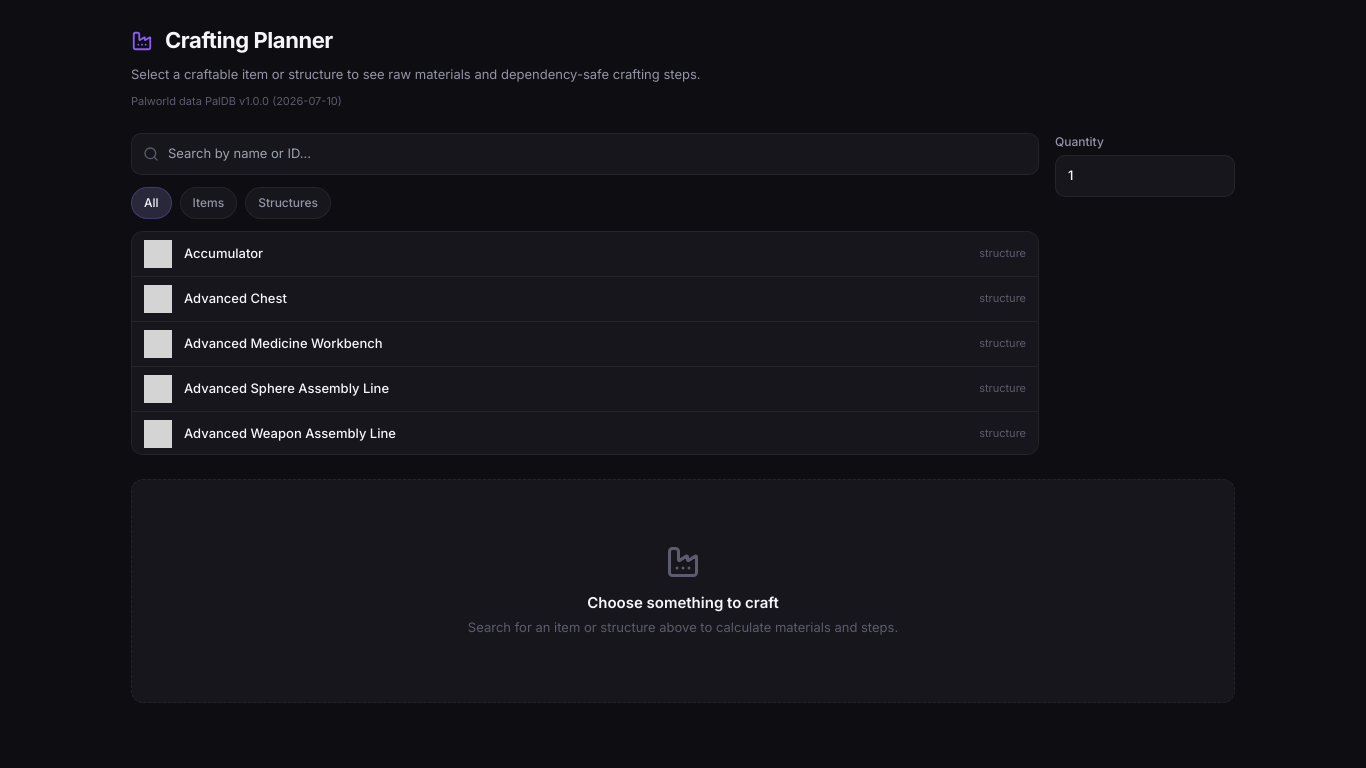
Test: CraftingPlanner page › recalculates when quantity changes
Type "Charcoal" into the search field labelled "Search by name or ID..." at point(585, 154), box [131, 133, 1039, 174]
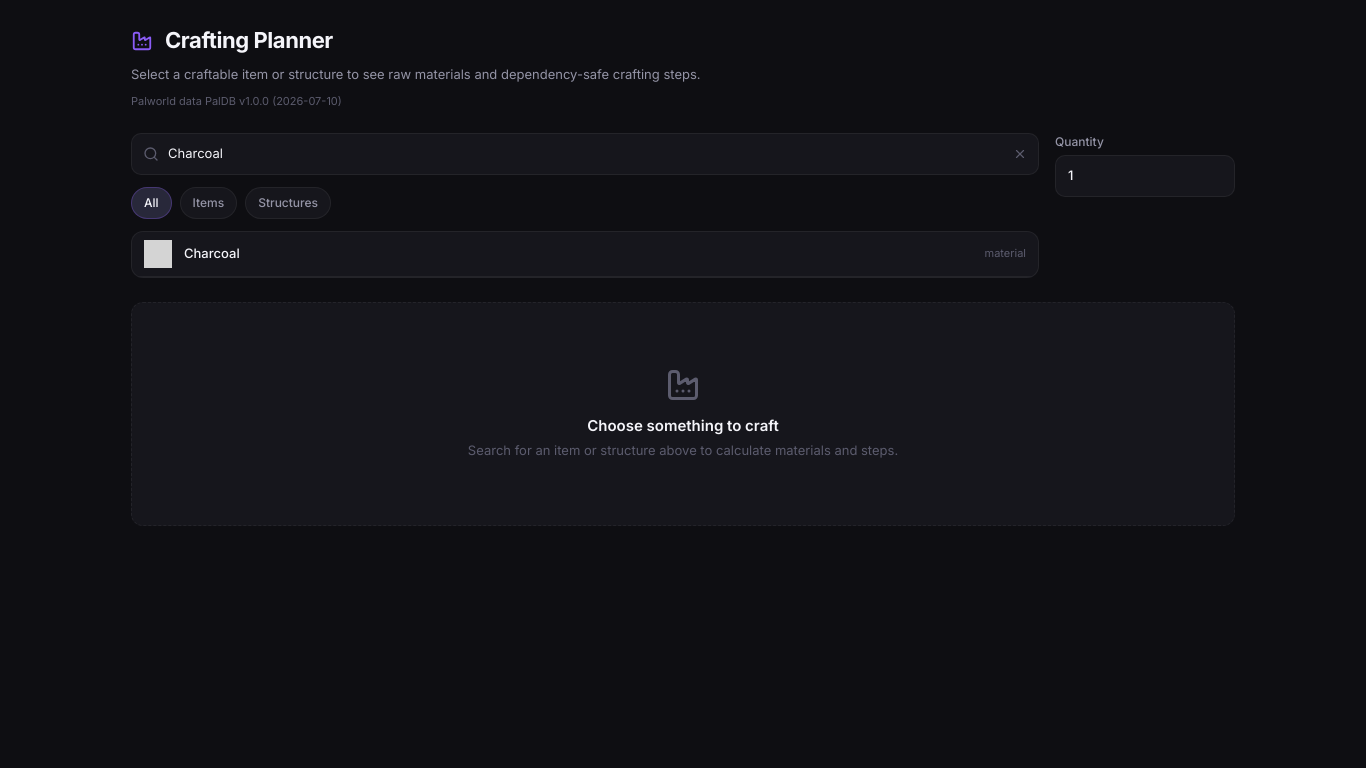
Click the option "Charcoal material" at point(212, 253), box [132, 232, 1038, 276]
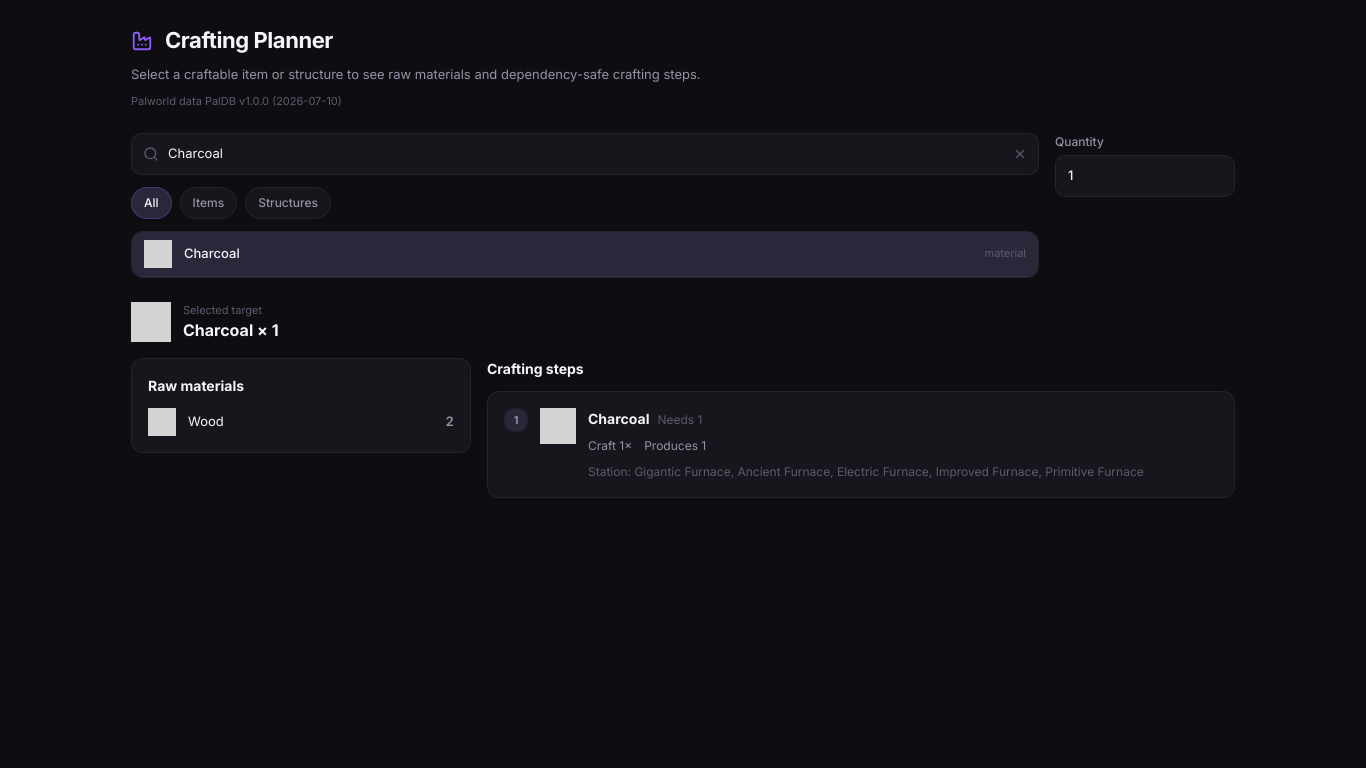
Replace the text in the number field labelled "Quantity" with "2" at point(1145, 176), box [1055, 155, 1235, 196]
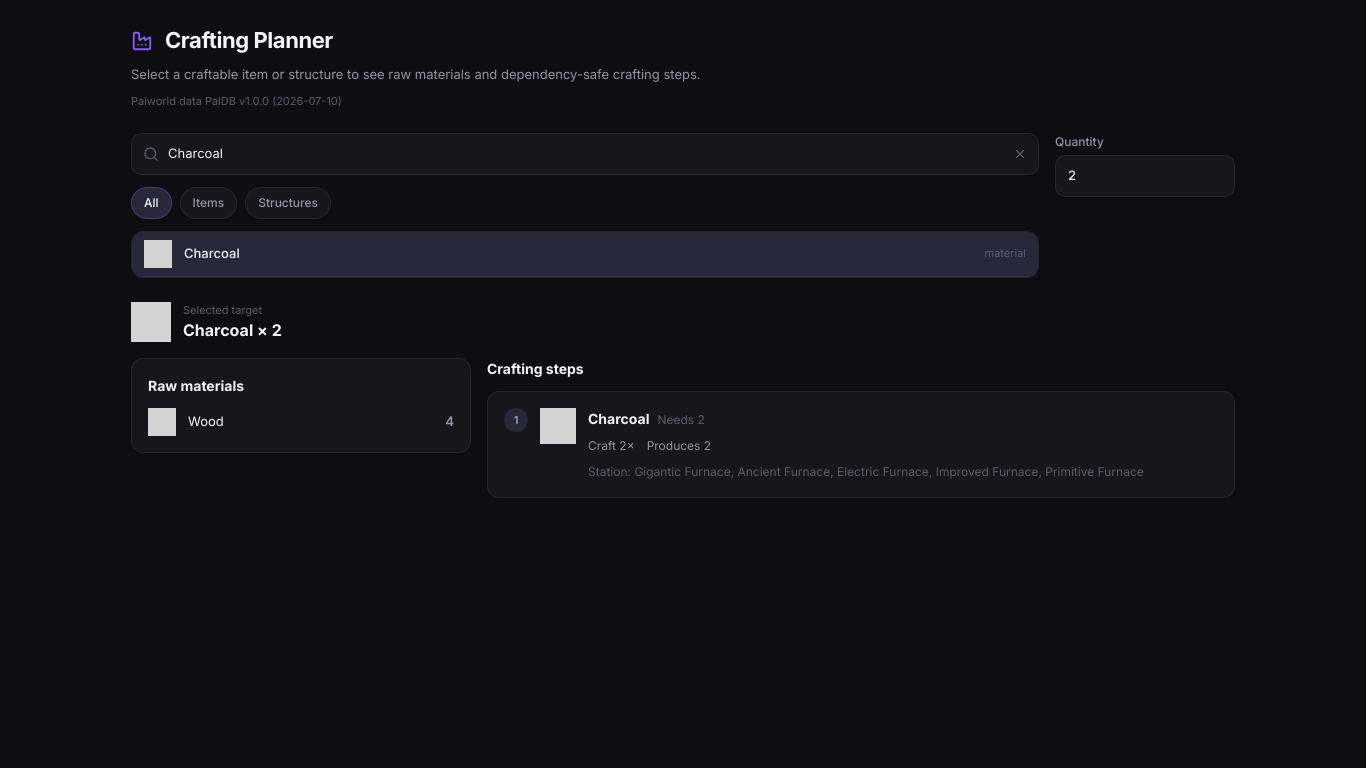
Expected: the text "4" is shown, [446, 412, 454, 432]
